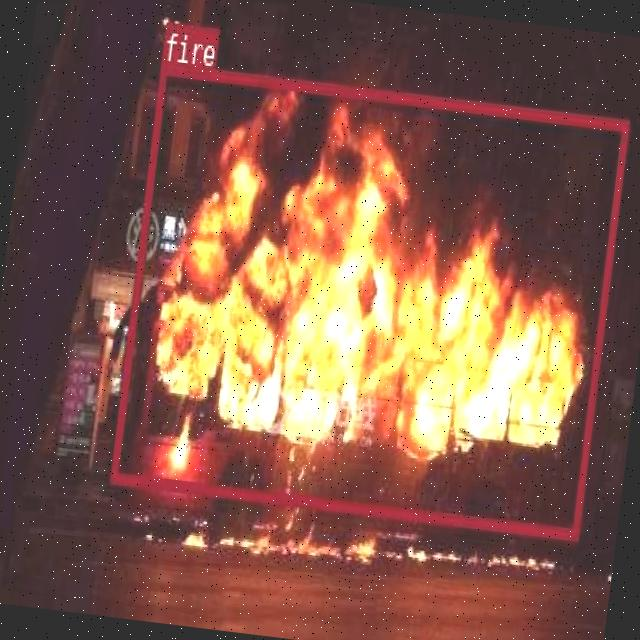fire: (110, 61, 628, 538)
